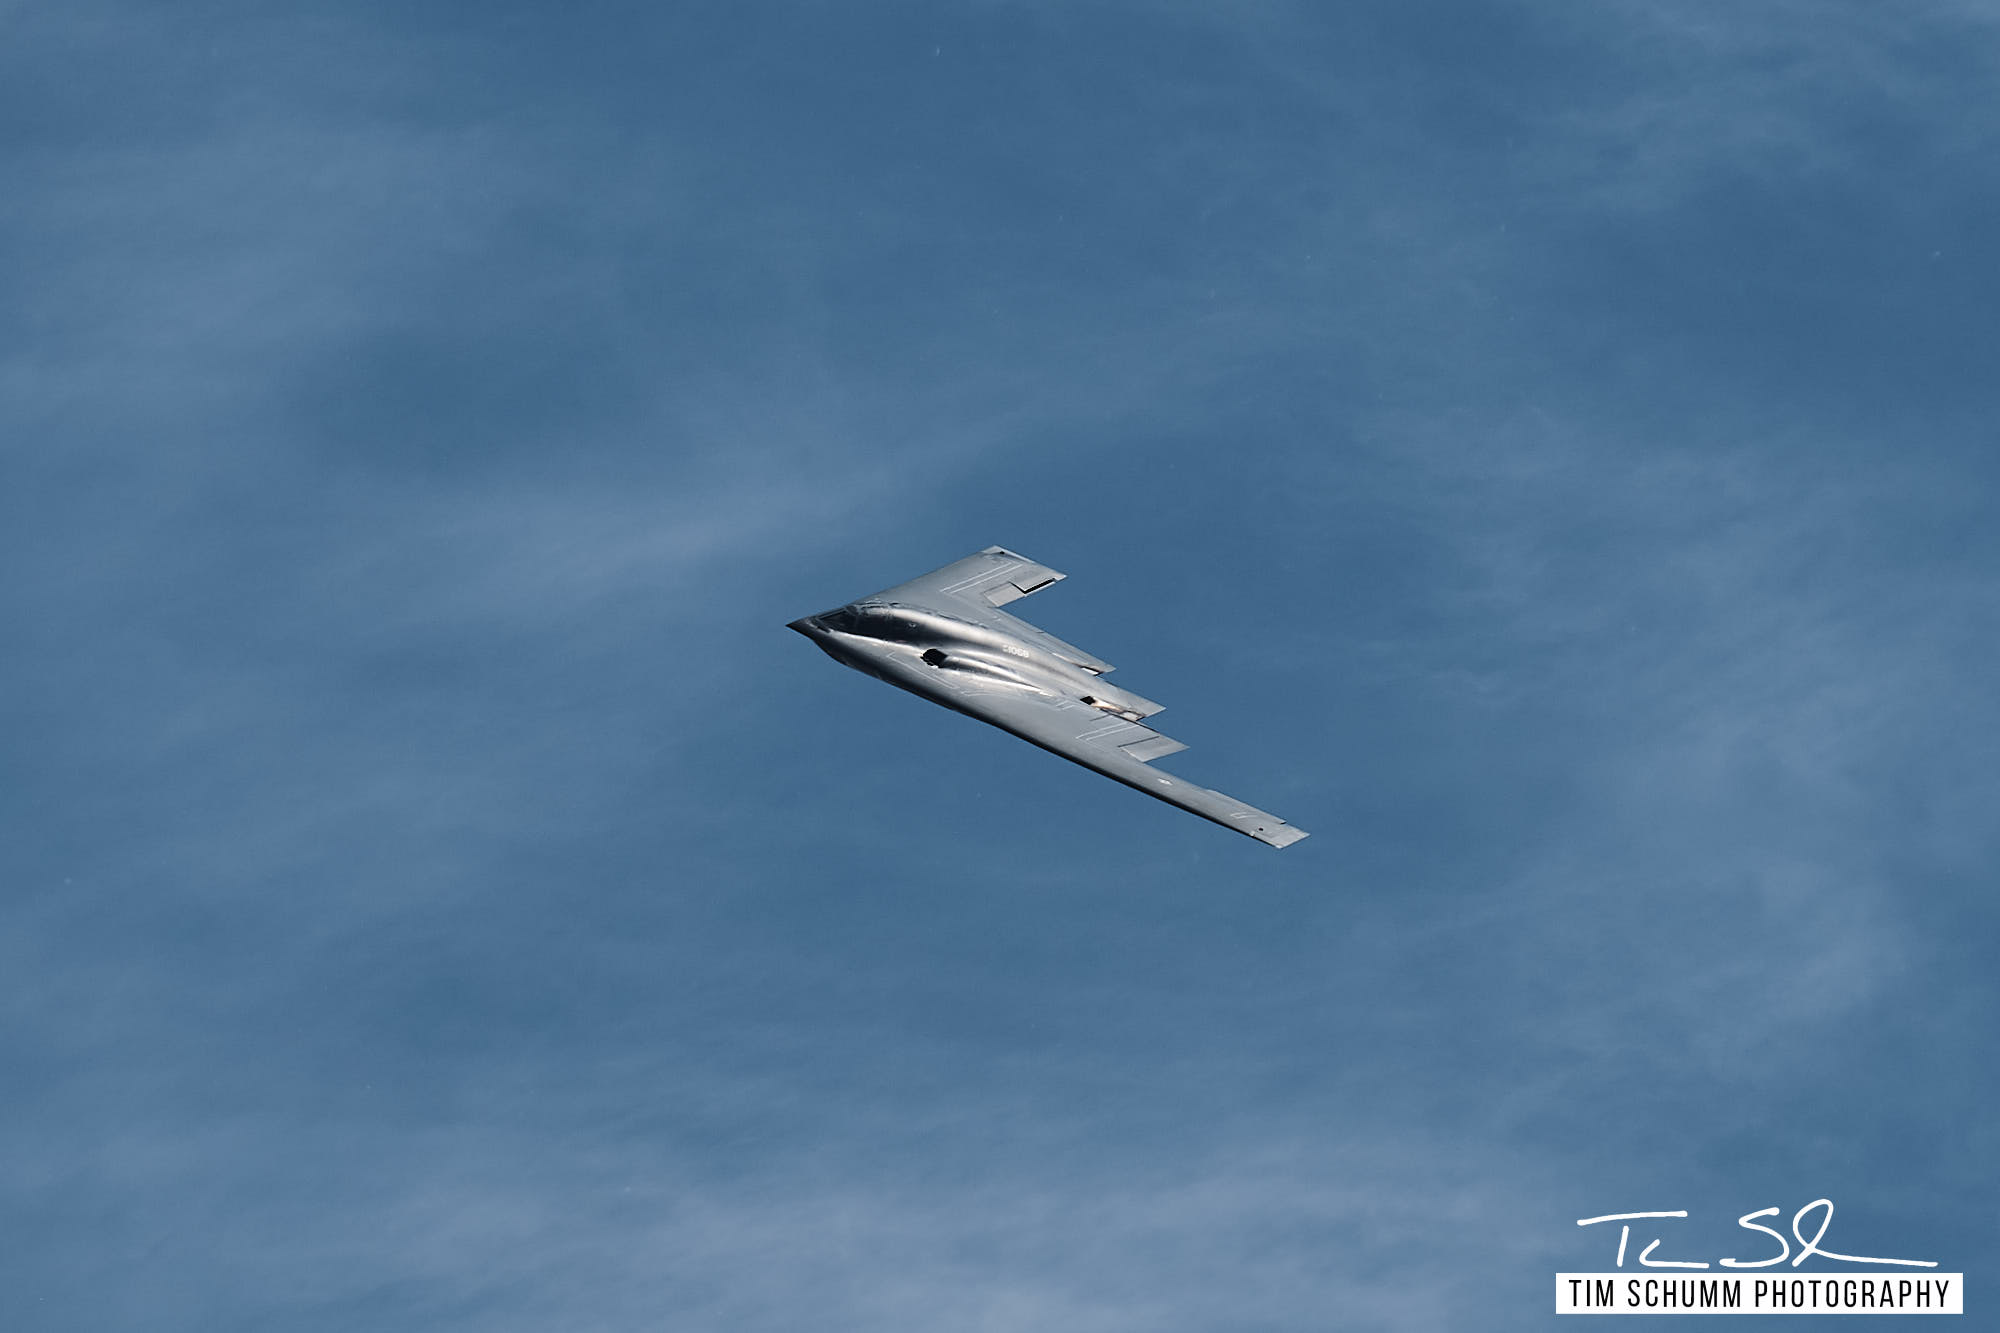B2: (784, 545, 1312, 851)
